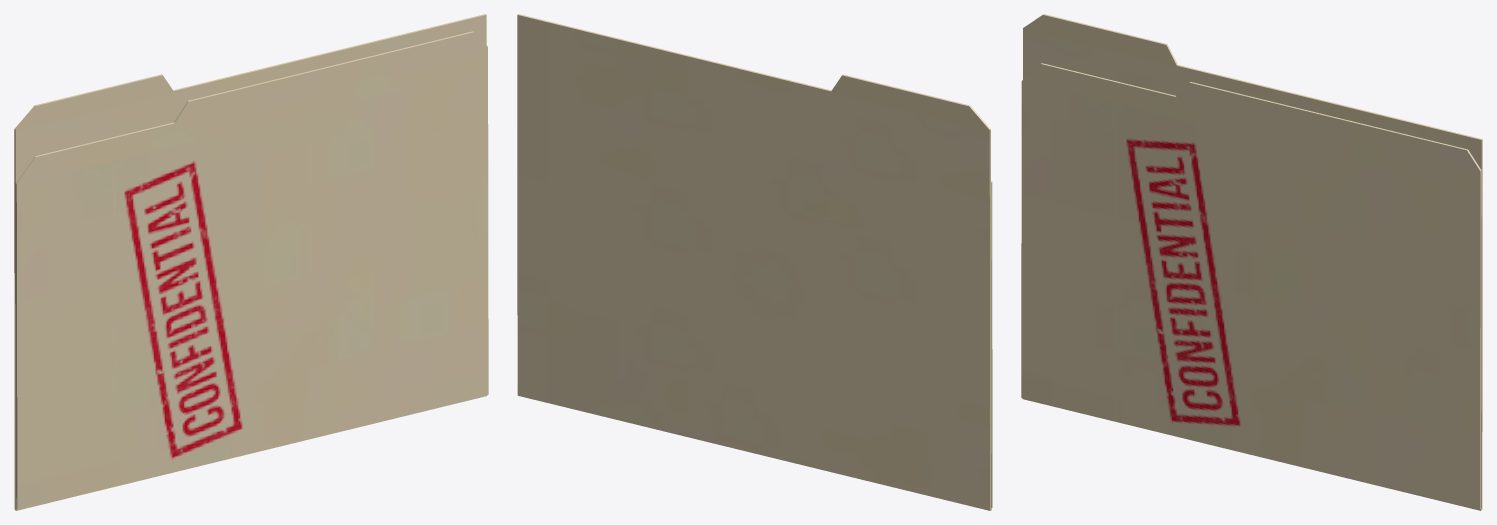
Rendered from 24T1_GAD174_P2_Folder.fbx.
3 renders of one model, left to right at view 1: azimuth 30°, elevation 25°; view 2: azimuth 150°, elevation 25°; view 3: azimuth 330°, elevation 25°, orthographic. The views are drawn at different scales.
Parts seen in each view (by area): view 1: Folder_Lip, Folder_Base; view 2: Folder_Base, Folder_Lip; view 3: Folder_Lip, Folder_Base.
Part boxes in pixels (x1,y1,x2,y2): Folder_Lip: (15, 31, 488, 510); Folder_Base: (14, 14, 487, 510); Folder_Base: (517, 14, 990, 510); Folder_Lip: (990, 180, 992, 510); Folder_Lip: (1021, 63, 1481, 509); Folder_Base: (1022, 14, 1482, 510).
Bounding box in the file's own units: 463 × 375 × 5.09.
